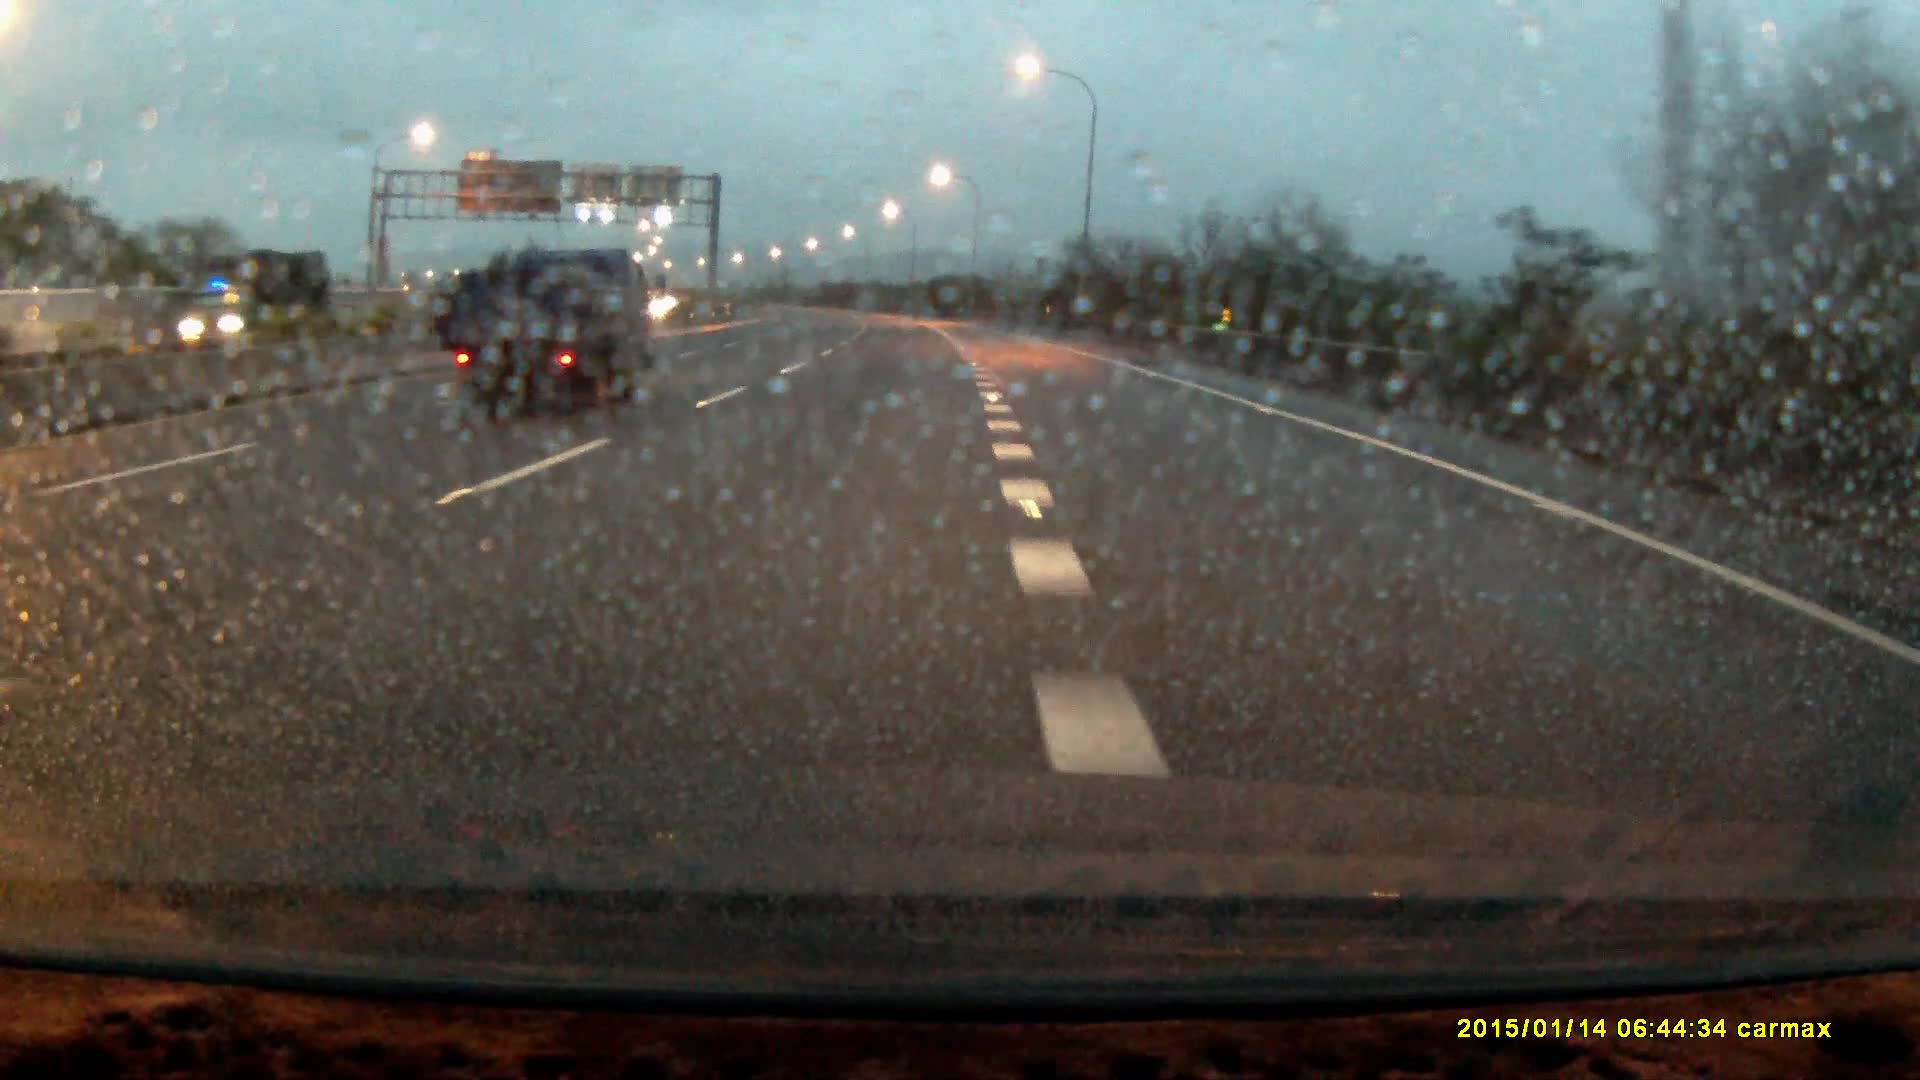vehicle: (436, 247, 647, 415), (170, 251, 334, 349)
